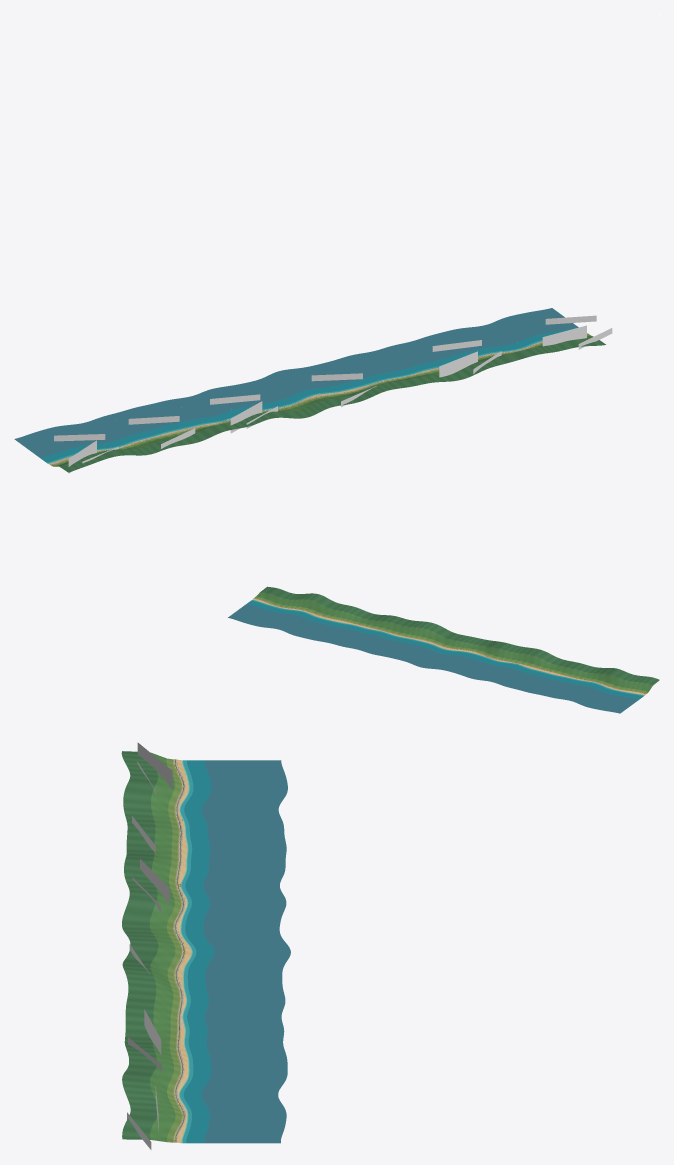
File: northshore.glb
The picture shows the model from 3 angles, top to bottom: view 1: azimuth 30°, elevation 25°; view 2: azimuth 150°, elevation 25°; view 3: azimuth 270°, elevation 25°; orthographic projection. The views are drawn at different scales.
Parts seen in each view (by area): view 1: Land_004, Land_002, NorthShoreSea_035, NorthShoreSea_019, Land_005, Land_001, Land_006, NorthShoreSea_002, NorthShoreSea_018; view 2: Land_005, Land_008, Land_000, Land_002, Land_007, Land_003, Land_001, Land_004, Land_006, NorthShoreSea_035, NorthShoreSea_002, Land_009 (+8 smaller); view 3: Land_001, Land_006, Land_004, Land_008, Land_005, Land_002, Land_003, Land_007, NorthShoreSea_002, NorthShoreSea_019, Land_000, NorthShoreSea_035 (+32 smaller).
Part boxes in pixels (x1,y1,x2,y2): Land_004: [278, 394, 340, 418]; Land_002: [160, 423, 235, 445]; NorthShoreSea_035: [498, 313, 547, 342]; NorthShoreSea_019: [275, 368, 326, 396]; Land_005: [327, 381, 401, 405]; Land_001: [104, 435, 177, 455]; Land_006: [384, 368, 459, 387]; NorthShoreSea_002: [33, 426, 83, 455]; NorthShoreSea_018: [258, 372, 310, 401]; Land_005: [398, 620, 456, 646]; Land_008: [275, 592, 332, 615]; Land_000: [604, 670, 659, 695]; Land_002: [522, 649, 576, 675]; Land_007: [316, 601, 371, 625]; Land_003: [481, 641, 536, 665]; Land_001: [562, 662, 620, 685]; Land_004: [438, 633, 497, 654]; Land_006: [357, 613, 412, 635]; NorthShoreSea_035: [247, 606, 284, 627]; NorthShoreSea_002: [586, 689, 623, 710]; Land_009: [253, 586, 289, 606]; Land_001: [123, 783, 185, 839]; Land_006: [125, 989, 185, 1040]; Land_004: [122, 908, 191, 960]; Land_008: [122, 1067, 187, 1120]; Land_005: [122, 950, 187, 999]; Land_002: [124, 833, 187, 880]; Land_003: [124, 867, 186, 920]; Land_007: [124, 1036, 188, 1080]; NorthShoreSea_002: [187, 774, 287, 792]; NorthShoreSea_019: [188, 948, 290, 965]; Land_000: [121, 751, 188, 799]; NorthShoreSea_035: [186, 1105, 286, 1122].
Size of the model in its own units: 12517 by 2878 by 4329.
